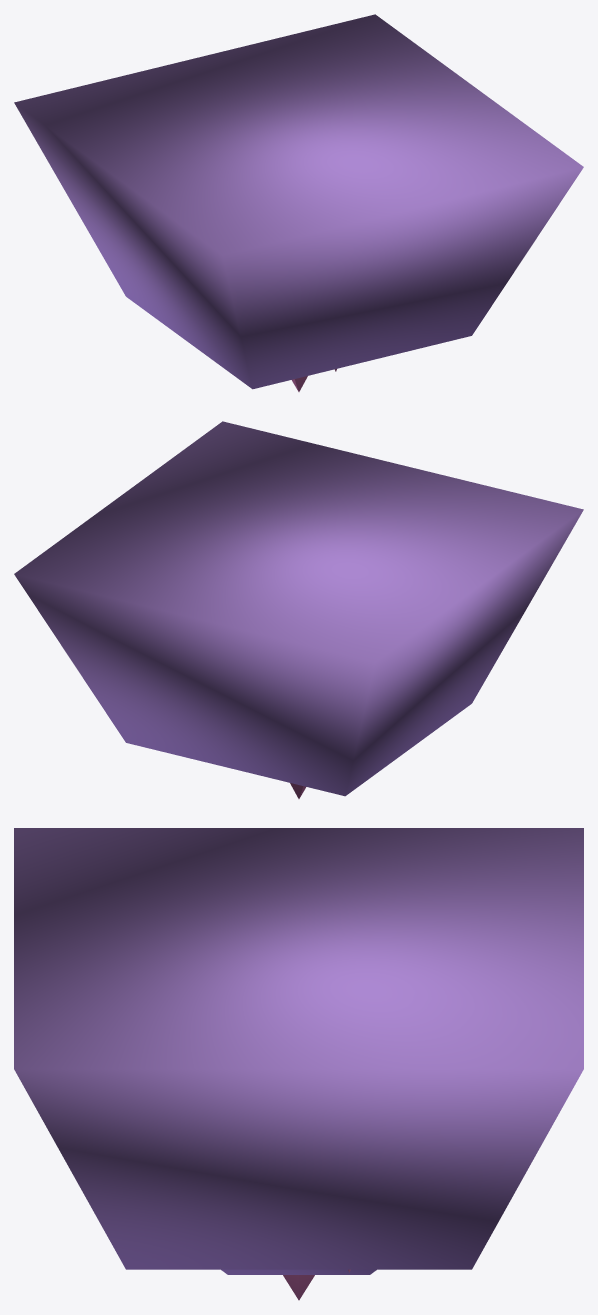
The model's file is bg_under.glb.
The picture shows the model from 3 angles, top to bottom: view 1: azimuth 30°, elevation 25°; view 2: azimuth 150°, elevation 25°; view 3: azimuth 270°, elevation 25°; orthographic projection. The views are drawn at different scales.
Visible parts, largest first — view 1: M_Under__u_rock; view 2: M_Under__u_rock; view 3: M_Under__u_rock.
Boxes of the visible parts, x1,y1,x2,y2 form: M_Under__u_rock: [14, 14, 583, 389]; M_Under__u_rock: [14, 421, 583, 796]; M_Under__u_rock: [14, 828, 583, 1274].
Size of the model in its own units: 3.96 by 2.7 by 3.96.
